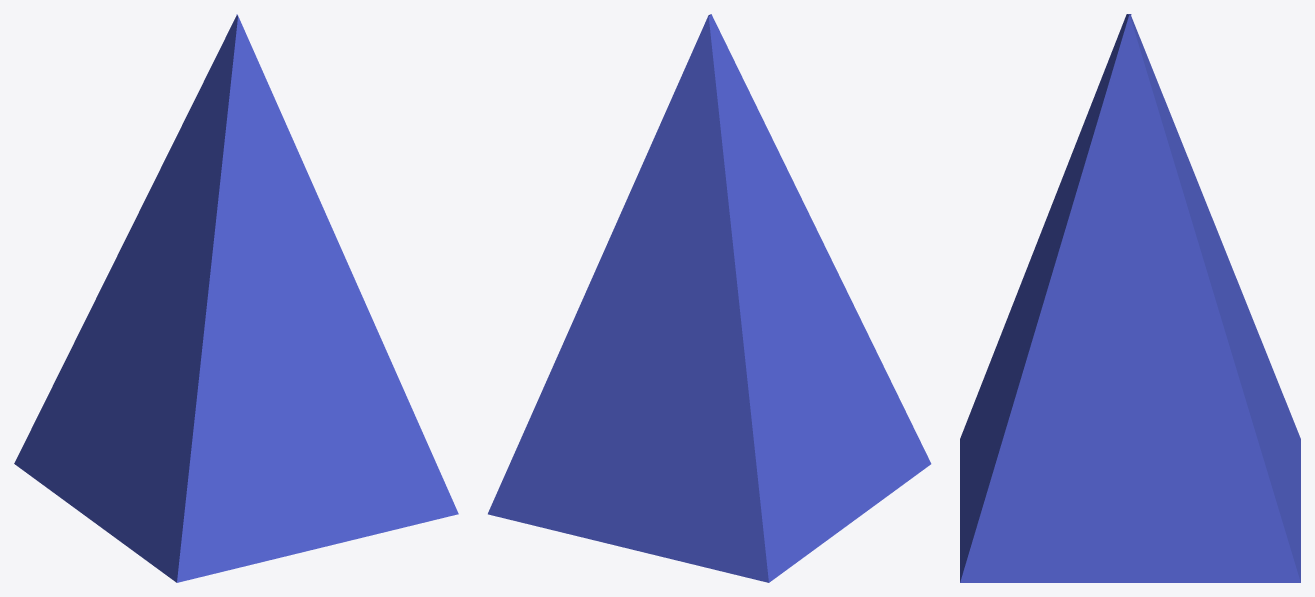
File: dummy.glb
The picture shows the model from 3 angles, left to right: view 1: azimuth 30°, elevation 25°; view 2: azimuth 150°, elevation 25°; view 3: azimuth 270°, elevation 25°; orthographic projection. The views are drawn at different scales.
Visible parts, largest first — view 1: Cube; view 2: Cube; view 3: Cube.
Boxes of the visible parts, x1,y1,x2,y2 form: Cube: [14, 14, 458, 582]; Cube: [488, 14, 931, 582]; Cube: [960, 14, 1300, 582].
Size of the model in its own units: 2 by 3.22 by 2.
